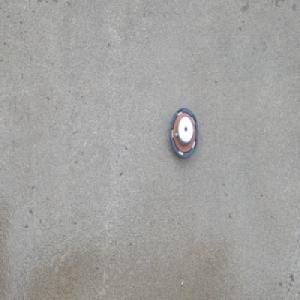FuelCap: (169, 106, 199, 161)
